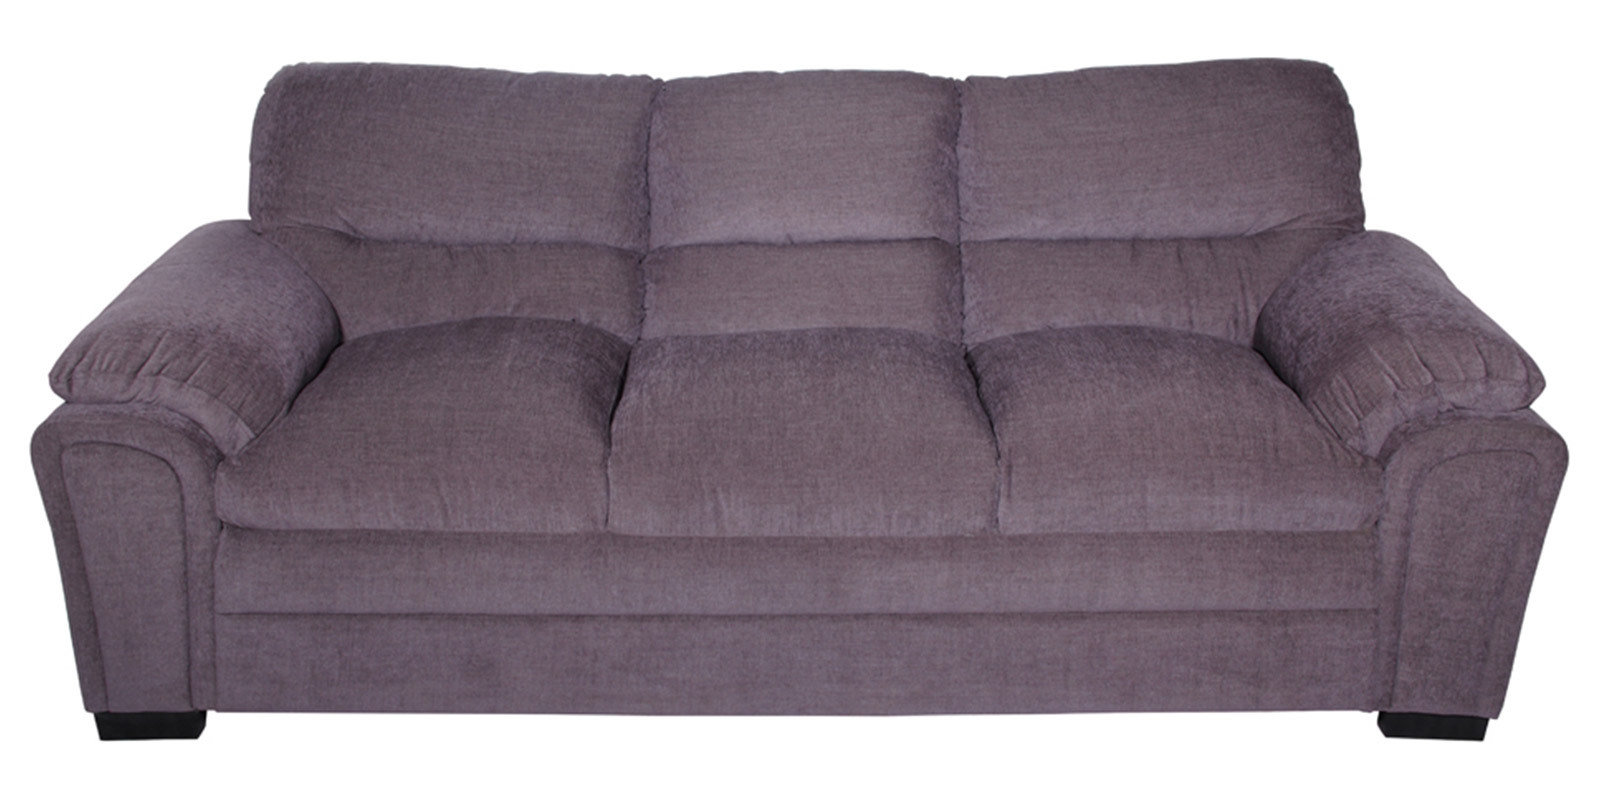Brass Three Seater Sofa in Dark Grey Colour by Furniture Mind: (29, 55, 1560, 755)
